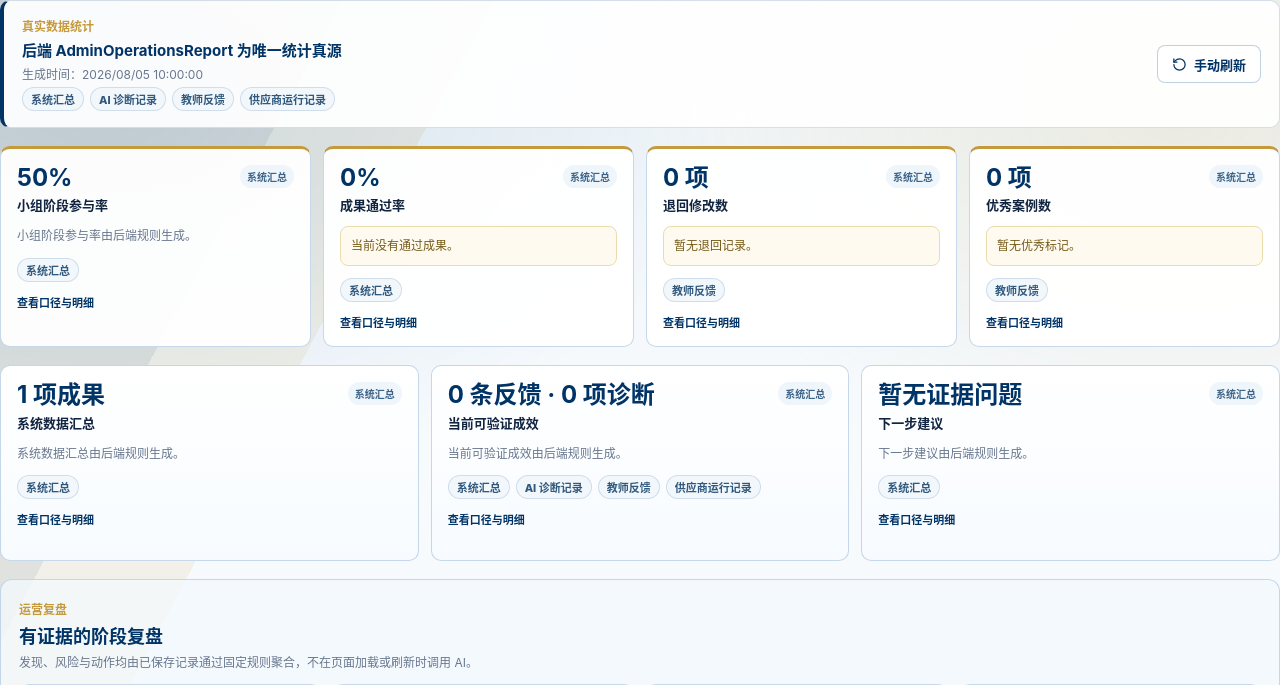
Test: AdminOperationsEvaluation › 所有核心卡片可打开统一详情并显示口径、分子分母、来源和关联明细
The width and height of the screenshot is (1280, 685).
Expected: the element named "运营评估数据来源" shows "系统汇总", [31,93,75,107]
Expected: the element named "运营评估数据来源" shows "AI 诊断记录", [99,93,157,107]
Click the button with aria-label "查看小组阶段参与率详情": click(45, 178) [0,146,311,347]
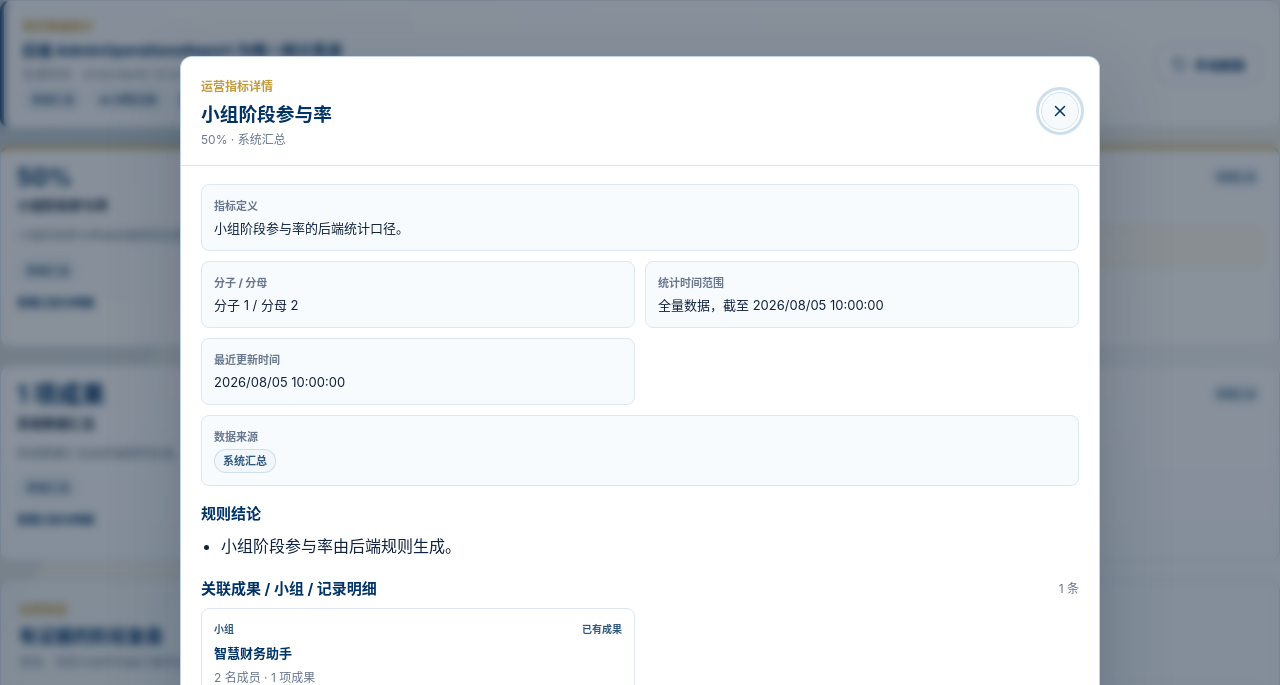
Expected: the text "小组阶段参与率的后端统计口径。" is shown, [214,220,409,236]
Expected: the text "分子 1 / 分母 2" is shown, [214,297,298,313]
Expected: the text "智慧财务助手" is shown, [214,645,292,661]
